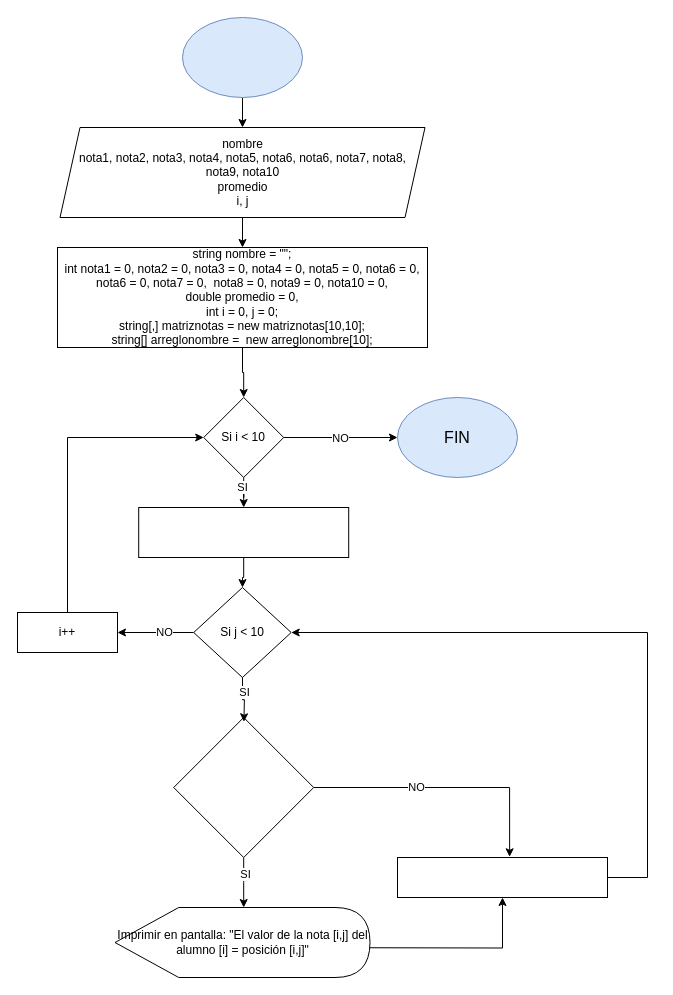
The diagram is 673 pixels wide and 995 high, and some of its shapes have lost their labels. The centre of each missing label's shape, as x and y in pixels:
"Imprimir el nombre del alumno [i]" belongs at point 243,532.
"INICIO" belongs at point 242,57.
"j++" belongs at point 502,877.
"Si nota en posición [i,j] >= 65" belongs at point 243,787.
